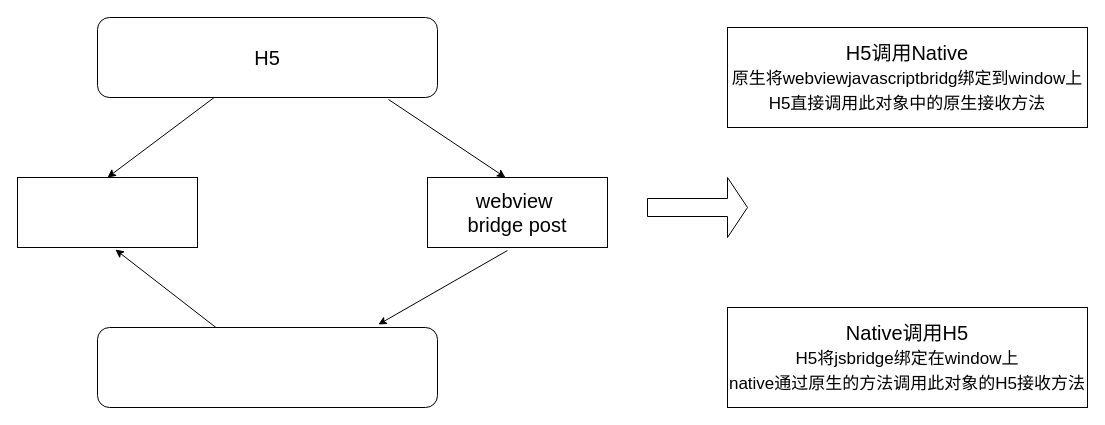
Some shapes in this 1105 by 425 pixel diagram are drawn without their labels. The centre of each missing label's shape, as x and y in pixels:
JSBridge 交换: pixel 107 212
Native: pixel 267 367
